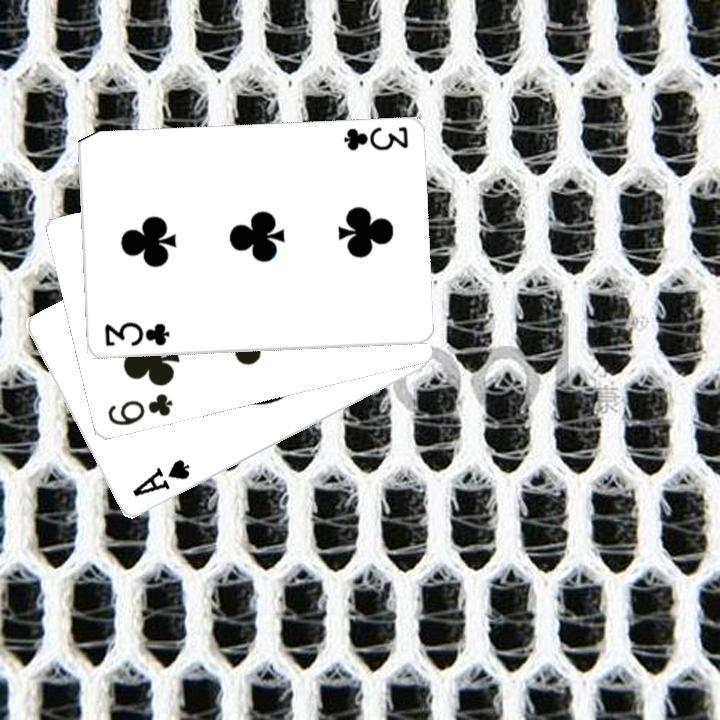3: (99, 318, 171, 349), (338, 122, 410, 153)
6: (103, 389, 174, 428)
A: (128, 455, 192, 499)
